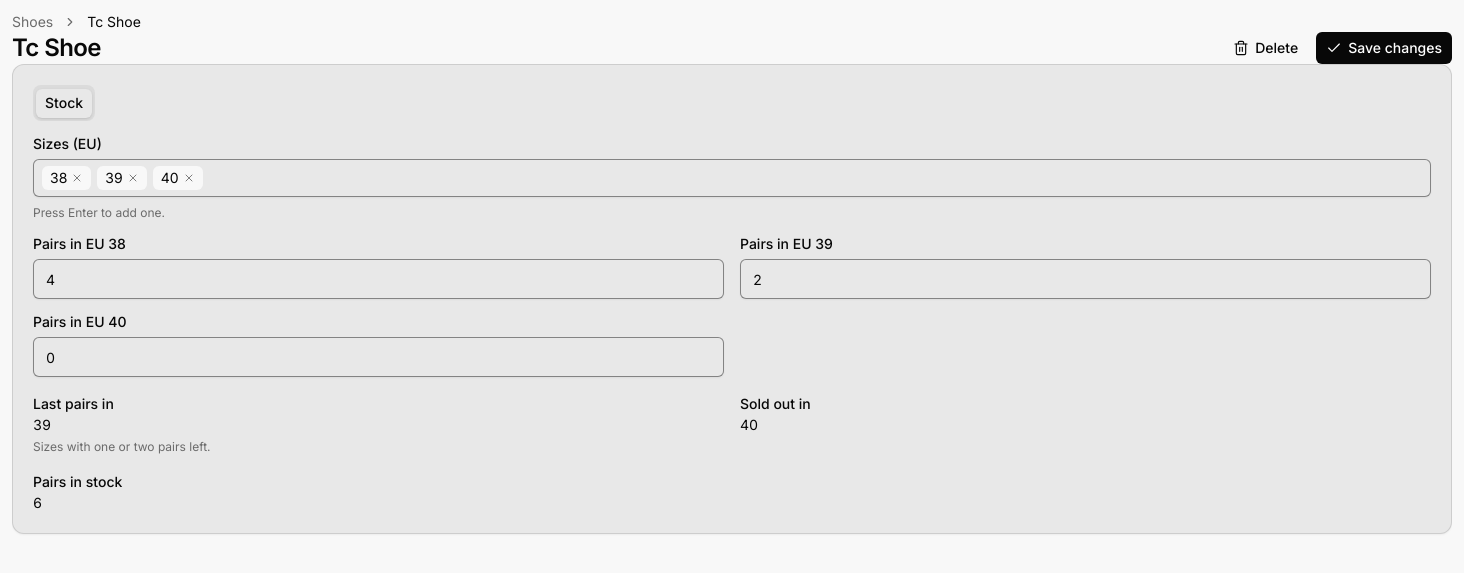
the Stock tab of a shoe's page › saves one size by itself on blur, says Saving… then Saved., and redraws the lists from the answer
The image size is (1464, 573).
Replace the text in the number field labelled "Pairs in EU 38" with "9" at (378, 279), box x1=33 y1=259 x2=724 y2=299
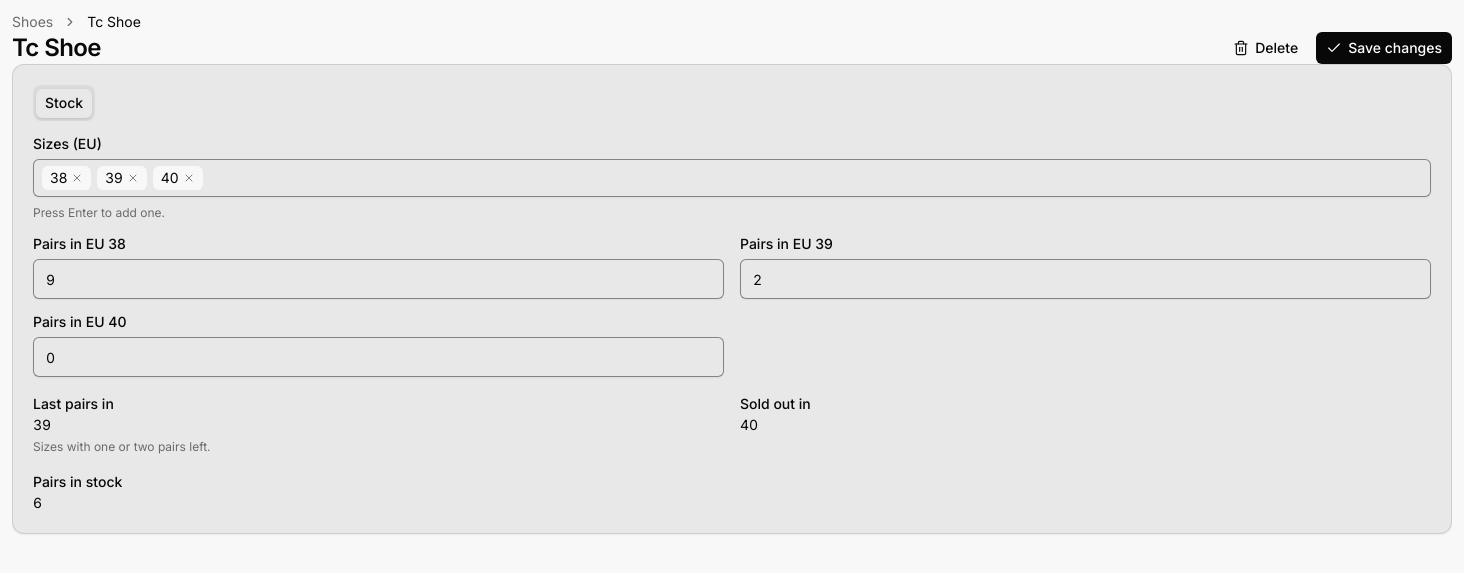
Leave the number field labelled "Pairs in EU 38", box x1=33 y1=259 x2=724 y2=299
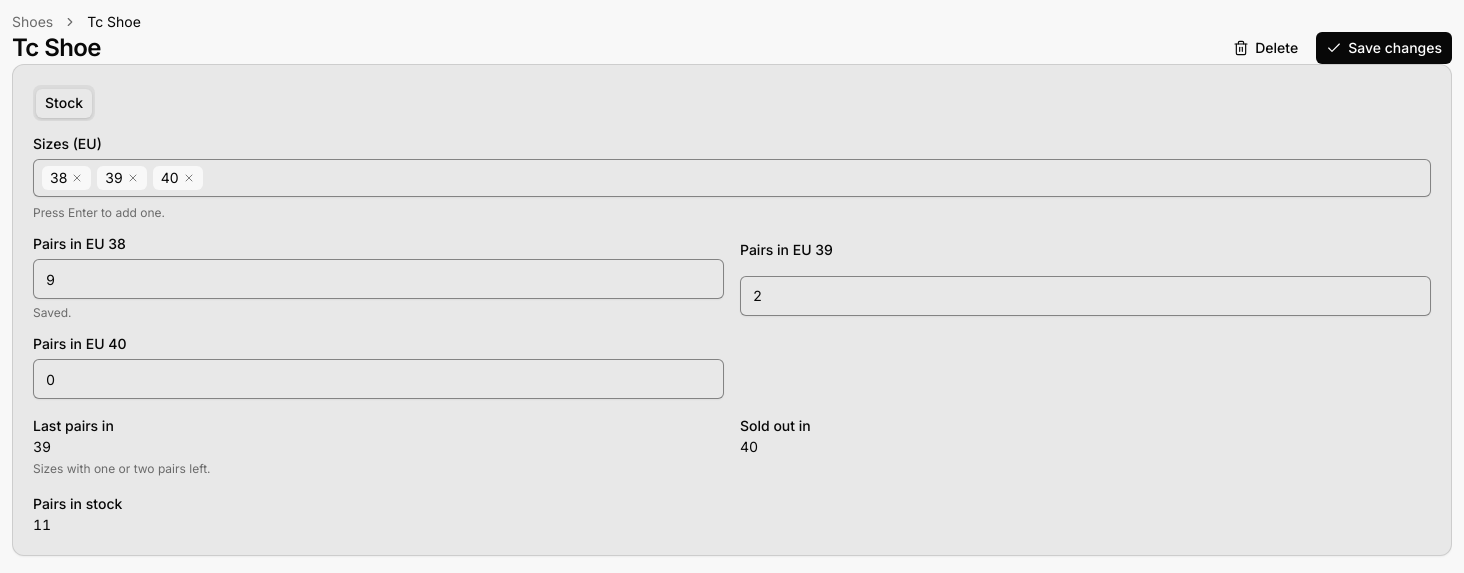
Result: the text "Saved." is shown at x1=33 y1=305 x2=72 y2=320
Result: the text named "Pairs in stock" reads "11" at x1=33 y1=516 x2=51 y2=533
